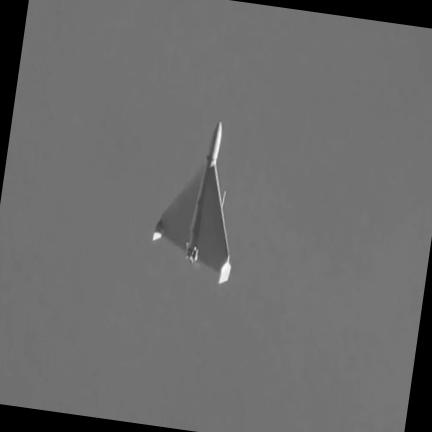Shahed: (153, 122, 231, 284)
